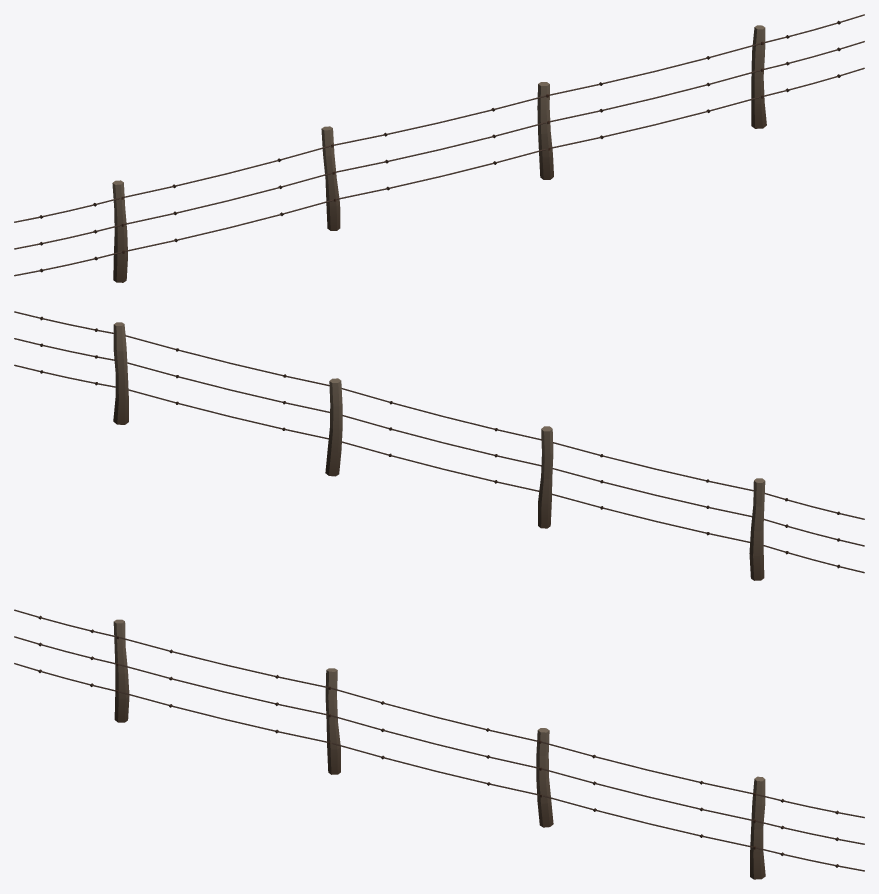
The model's file is fence.glb.
3 views of the same model, one above another, from view 1: azimuth 30°, elevation 25°; view 2: azimuth 150°, elevation 25°; view 3: azimuth 330°, elevation 25° (orthographic).
Visible parts, largest first — view 1: fence; view 2: fence; view 3: fence.
Boxes of the visible parts, bbox=[...] form: fence: bbox=[14, 14, 864, 282]; fence: bbox=[14, 311, 864, 580]; fence: bbox=[14, 609, 864, 879].
Bounding box in the file's own units: 12 × 1.36 × 0.241.
